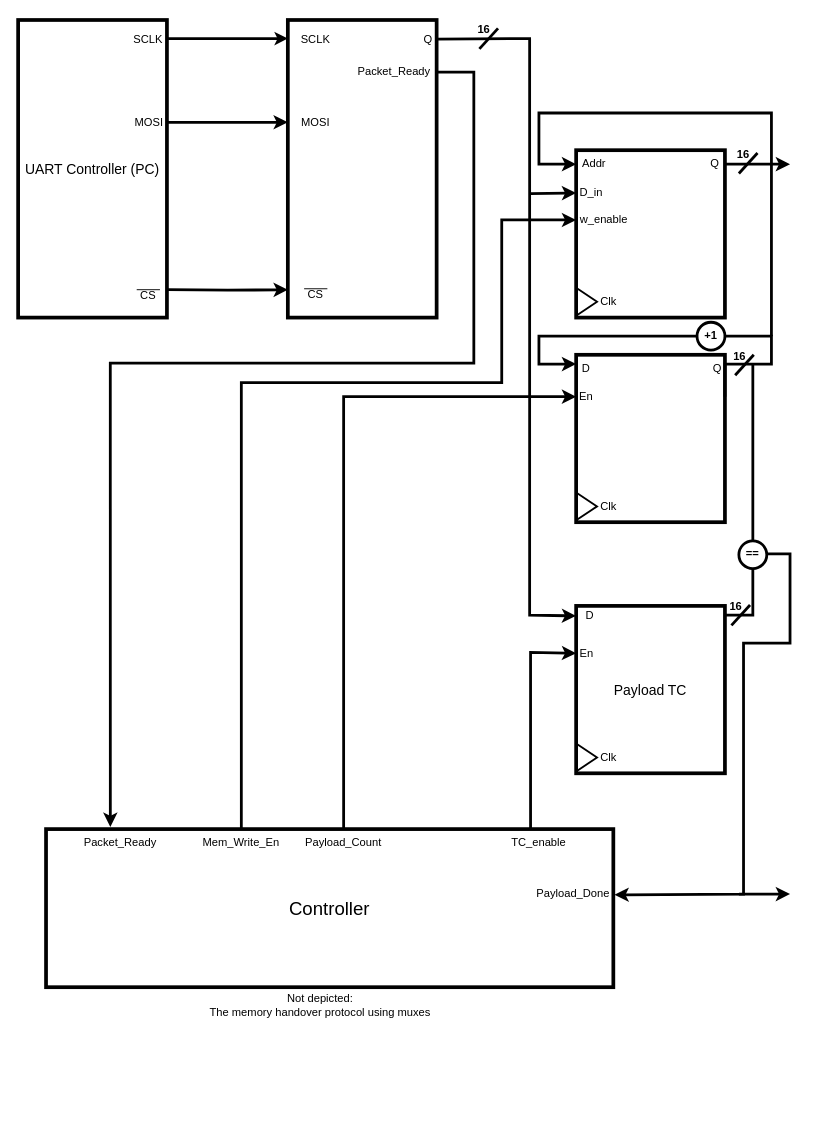
The diagram is 815 pixels wide and 1146 high, and some of its shapes have lost their labels. Here are the shapes that lost their labels. From the top down, the box of each, then its label:
(286, 18, 438, 319): UART Receiver
(574, 148, 726, 319): Memory
(574, 352, 726, 524): Payload Counter
